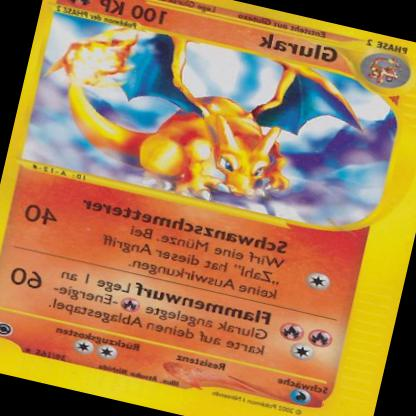Squirtle: (43, 14, 352, 226)
